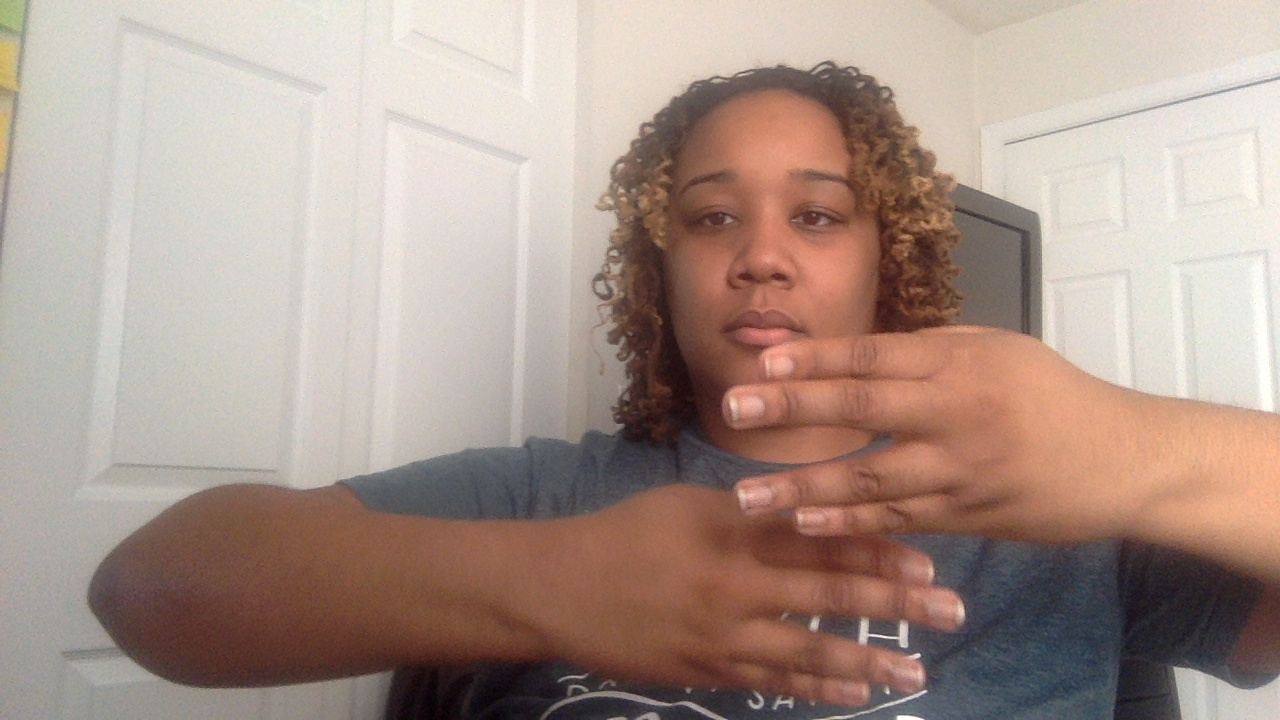world: (603, 313, 1056, 720)
